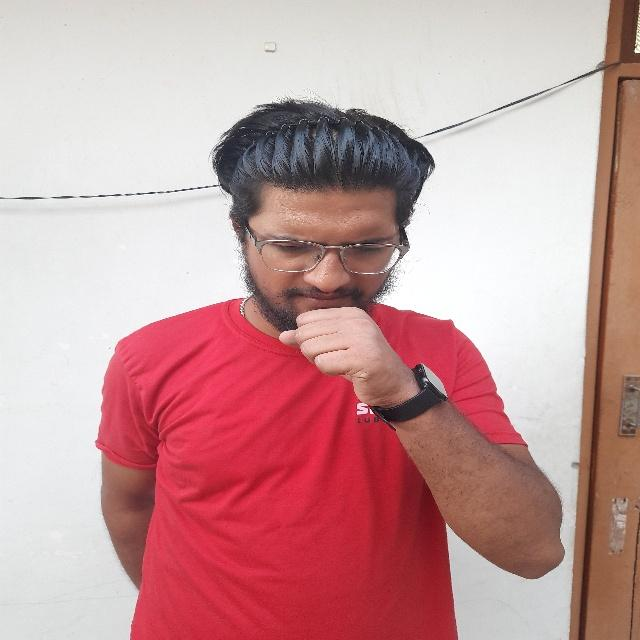Fist Mouth: (217, 107, 430, 421)
